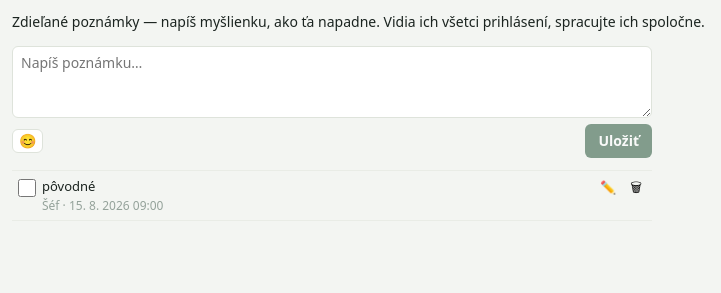
Test: poznámku medzitým niekto zmazal (updated:false) — úprava sa zavrie, zobrazí sa hláška a zoznam sa obnoví
Click the text with test id "poznamka-body-n-1" at (69, 186), box [42, 177, 95, 195]
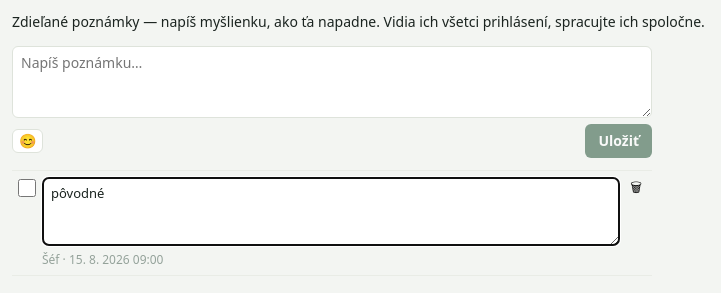
Replace the text in the text box with test id "poznamka-edit-input-n-1" with "opravené" at (331, 211), box [42, 177, 620, 246]
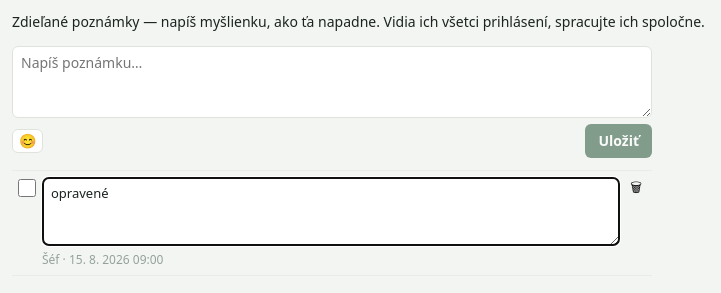
Press Enter in the text box with test id "poznamka-edit-input-n-1", box [42, 177, 620, 246]
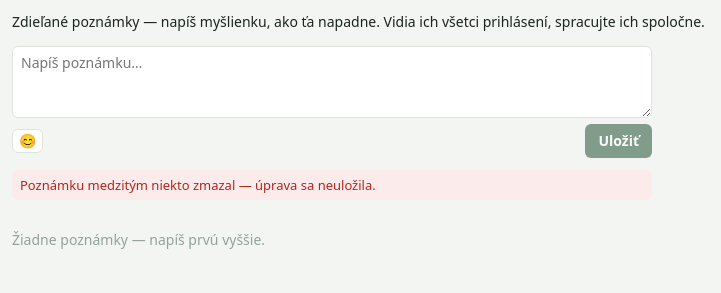
Result: the message shows "niekto zmazal" at [20, 176, 376, 194]
Result: the text "Žiadne poznámky — napíš prvú vyššie." is shown at [12, 230, 265, 249]
Result: the text box with test id "poznamka-edit-input-n-1" is gone
